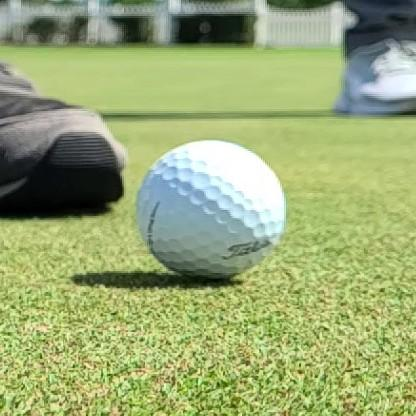golfball: (135, 140, 285, 280)
